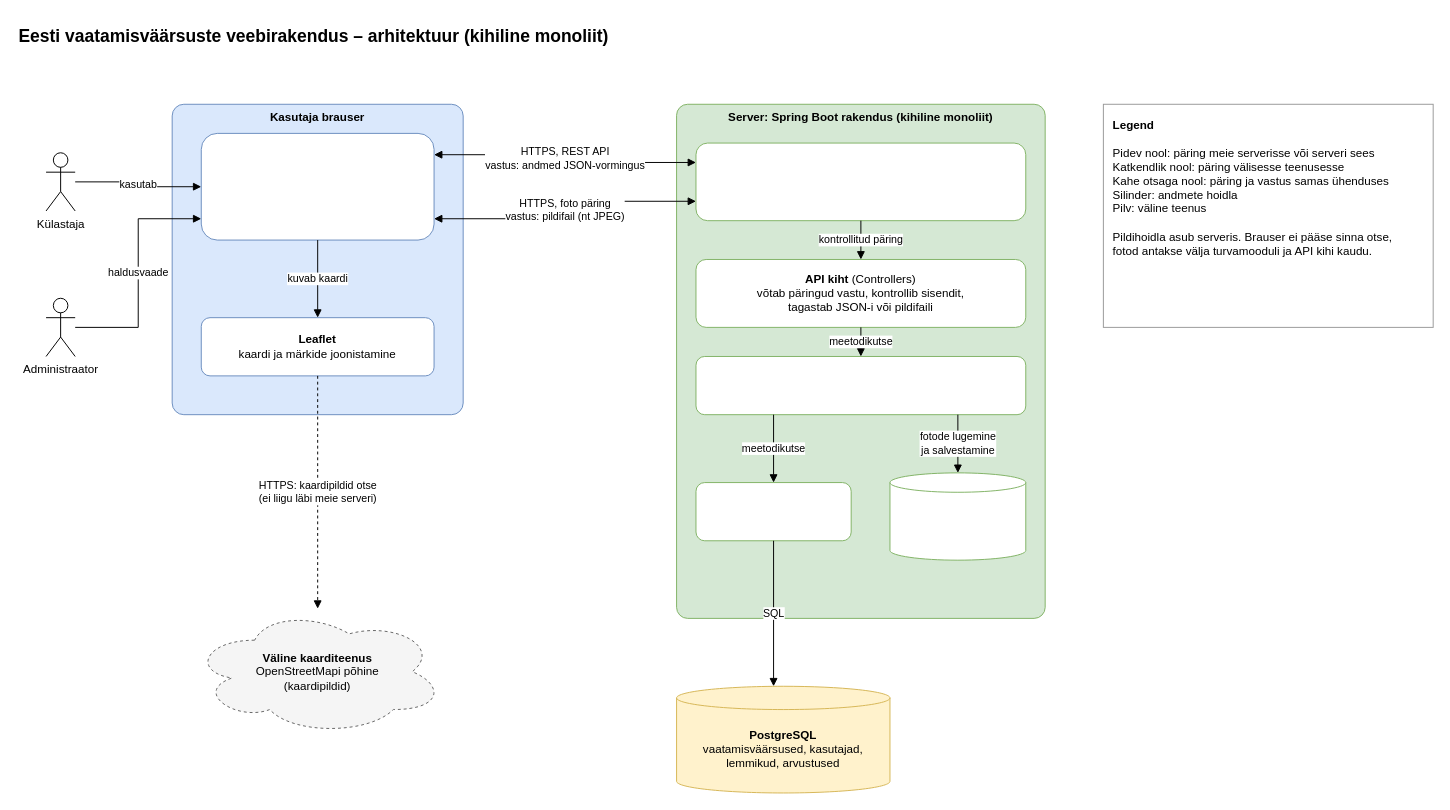
The diagram is 1450 pixels wide and 810 high, and some of its shapes have lost their labels. Here are the shapes that lost their labels. From the top down, the centre of each, then its label:
[317,186]: Veebiliides HTML, CSS, JavaScript kaart, nimekiri, detailvaade, haldusvaade
[860,181]: Turvamoodul (Spring Security) sisselogimine seansiküpsisega, õiguste kontroll
[860,385]: Äriloogika kiht (Services) filtreerimine, reeglid, vahemälu uuendamine
[773,511]: Andmekiht (Repositories)
[957,516]: Pildihoidla serveri ketas (fotod)
